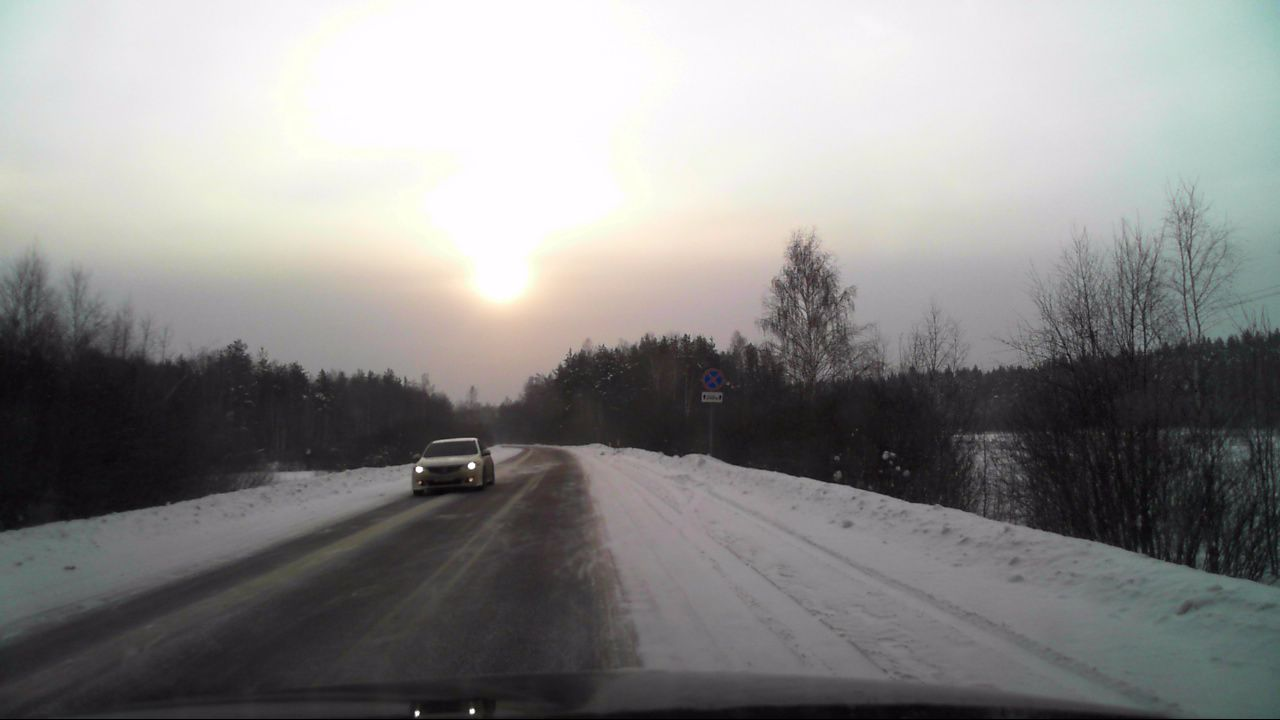No Parking: (702, 367, 724, 391)
